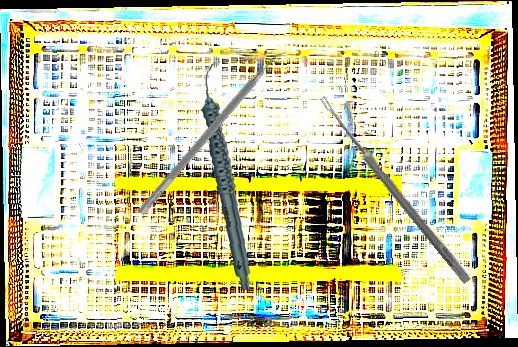Handpiece: (191, 63, 263, 291)
Spatula Surgical: (136, 44, 291, 222)
Surgical Spoon: (316, 94, 473, 285)
